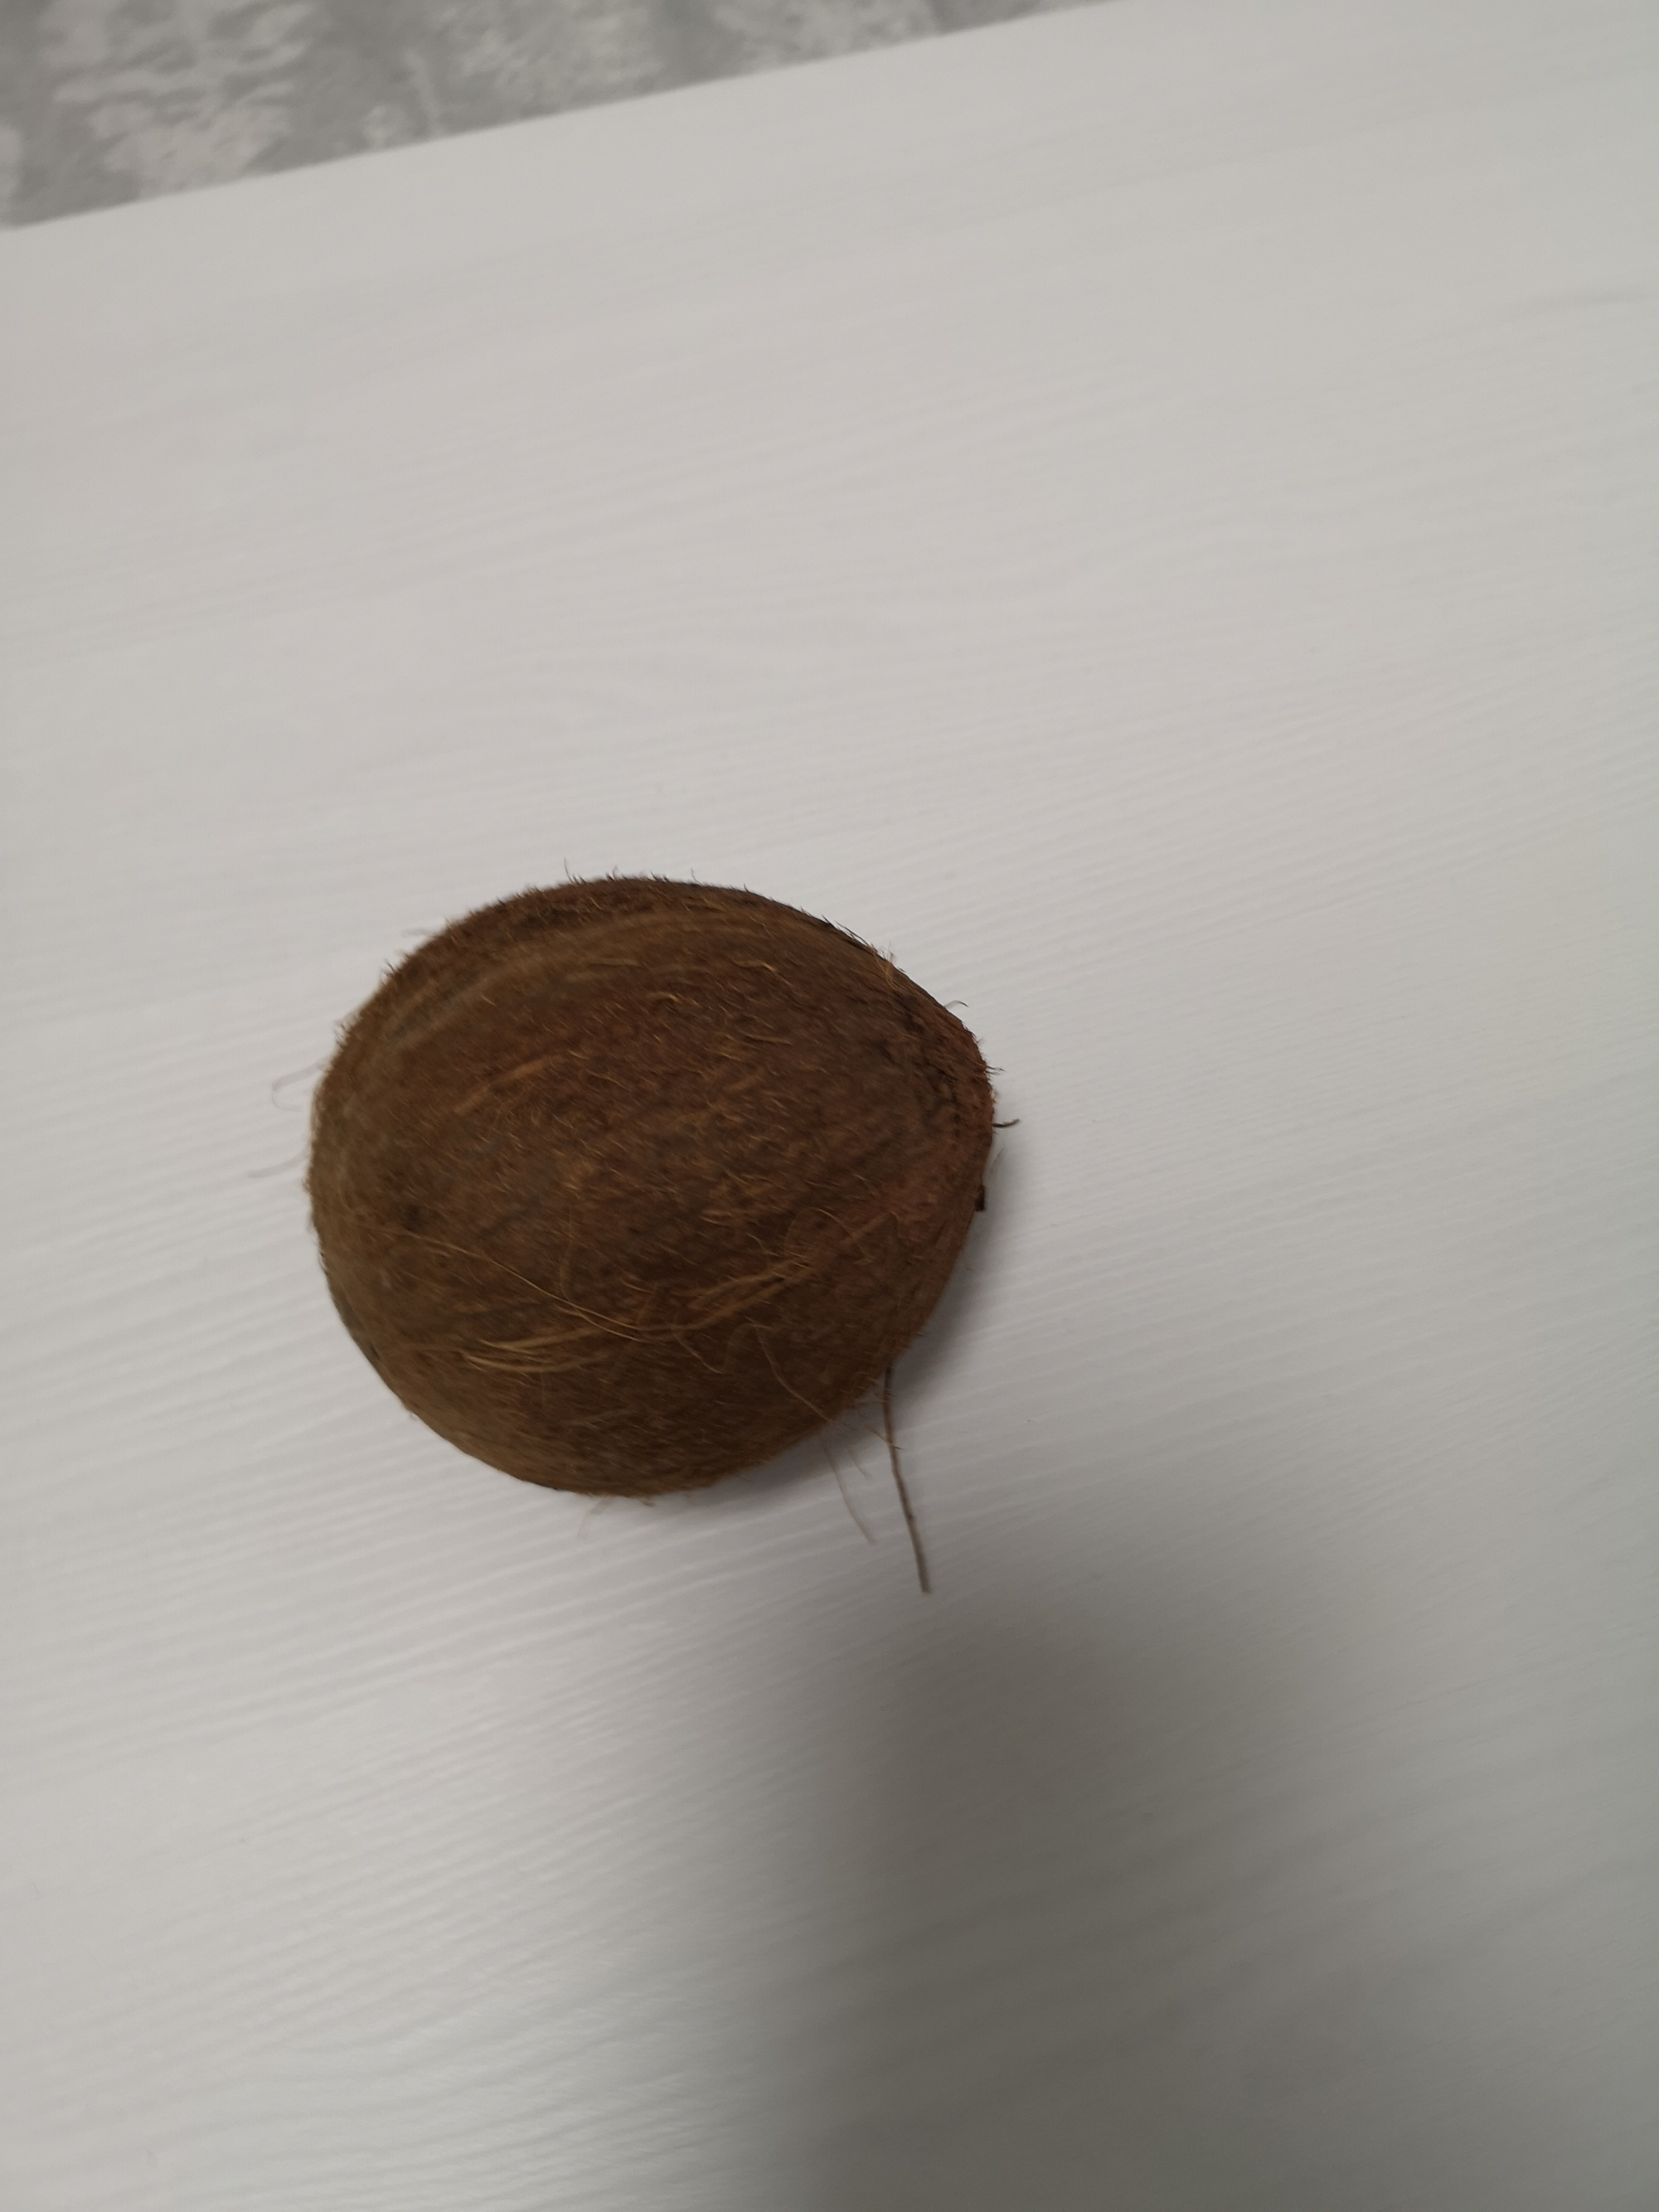coconut: (305, 871, 1006, 1515)
